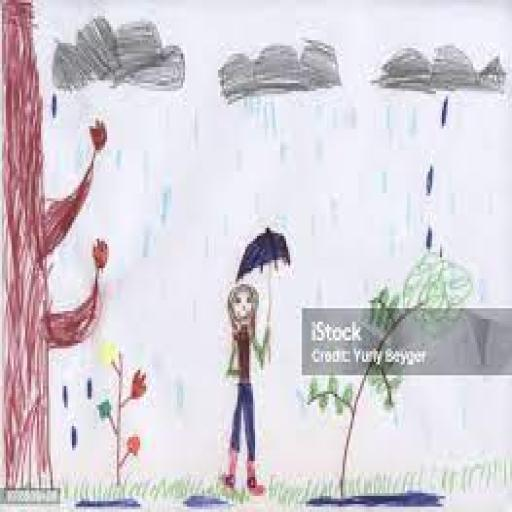person: (210, 278, 290, 502)
